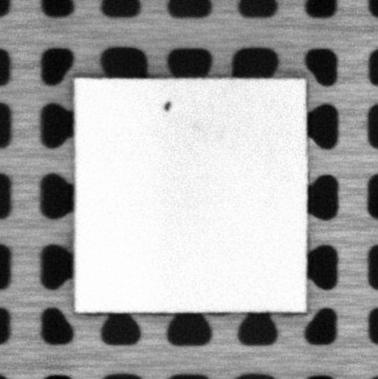DIE_INK: (161, 98, 174, 114)
